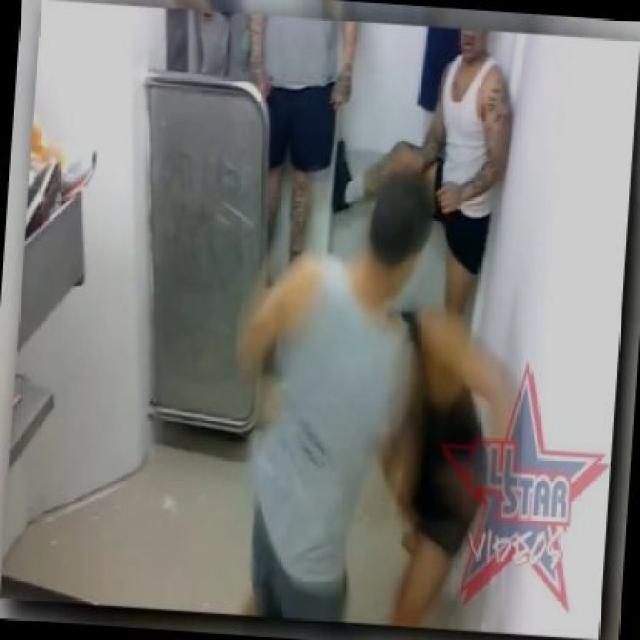fight: (238, 166, 515, 638)
non-fight: (342, 9, 515, 355)
